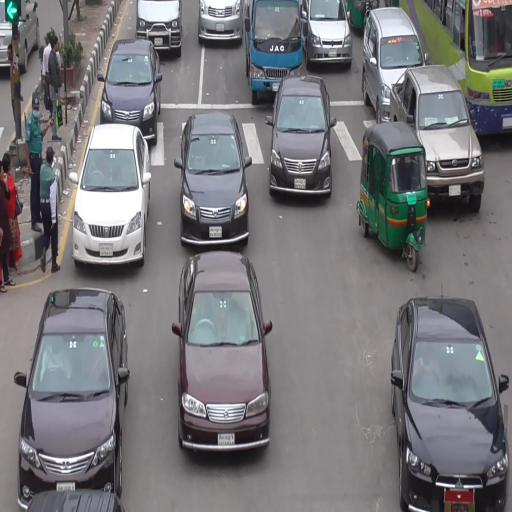bus: (461, 1, 512, 146)
car: (390, 282, 512, 512), (13, 284, 135, 512), (169, 247, 279, 463), (68, 121, 155, 271), (173, 106, 255, 254), (264, 73, 340, 209), (98, 36, 163, 148)
pickup: (389, 63, 486, 216), (245, 1, 308, 105)
suv: (303, 2, 355, 75)
three wheelers (CNG): (356, 119, 432, 279)
